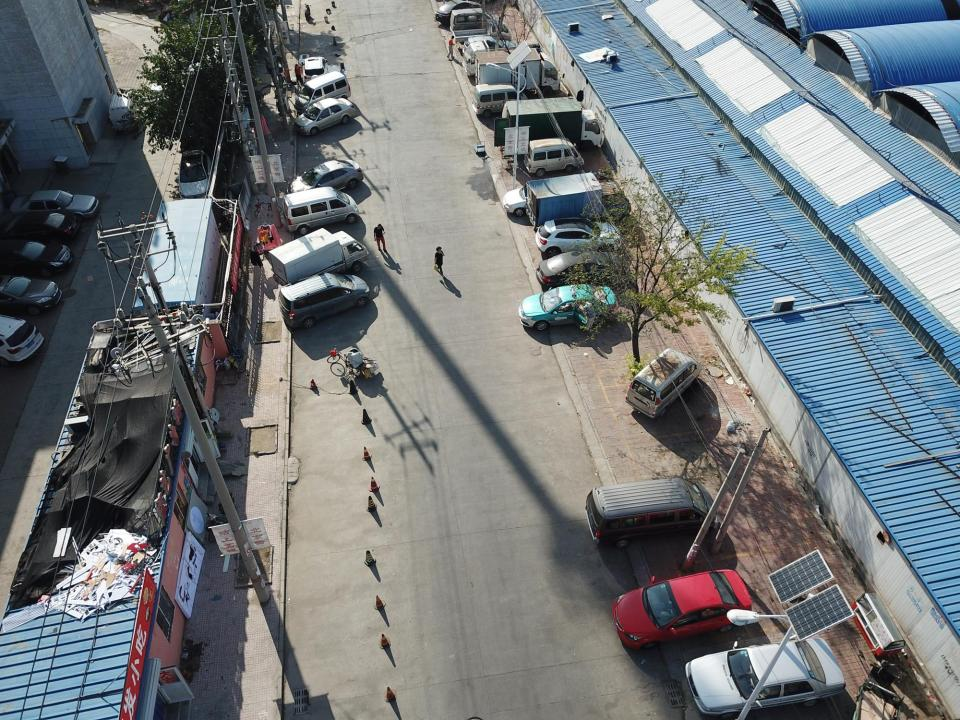car: (684, 636, 847, 720), (612, 570, 753, 652), (518, 283, 620, 332), (501, 175, 591, 218), (535, 216, 622, 260), (536, 248, 627, 290), (286, 158, 363, 199), (10, 189, 100, 222), (0, 237, 74, 277), (0, 211, 80, 247), (294, 97, 357, 137), (0, 313, 45, 367), (0, 274, 62, 313), (175, 148, 213, 207), (462, 34, 518, 61), (434, 0, 482, 26), (300, 56, 330, 89)
truck: (268, 226, 369, 290), (525, 171, 631, 229), (501, 95, 605, 153), (474, 47, 565, 97), (462, 39, 541, 78), (452, 18, 512, 51)
van: (584, 474, 719, 549), (624, 346, 703, 420), (278, 271, 371, 329), (281, 185, 359, 235), (294, 71, 352, 115), (522, 136, 584, 177), (471, 81, 531, 119), (449, 8, 502, 37), (108, 92, 141, 132)
